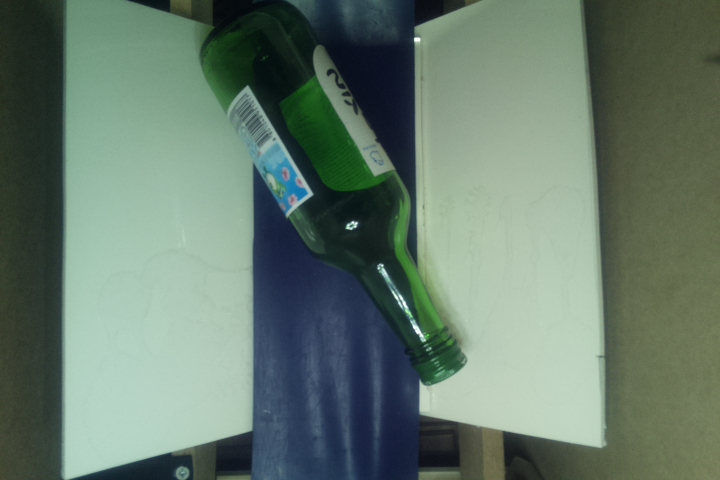soju: (194, 1, 468, 388)
